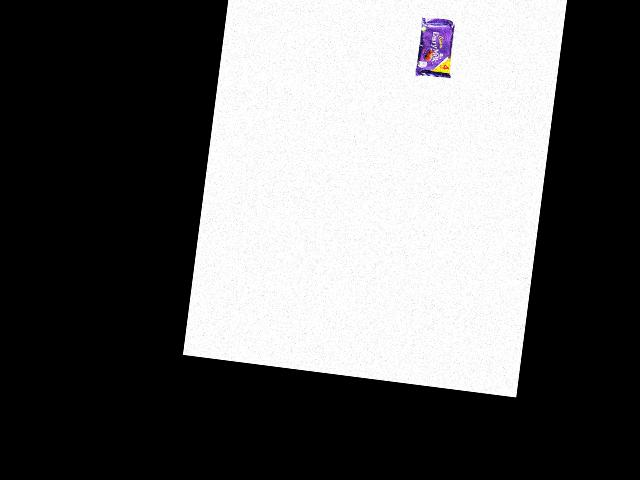chocolate: (409, 13, 457, 86)
